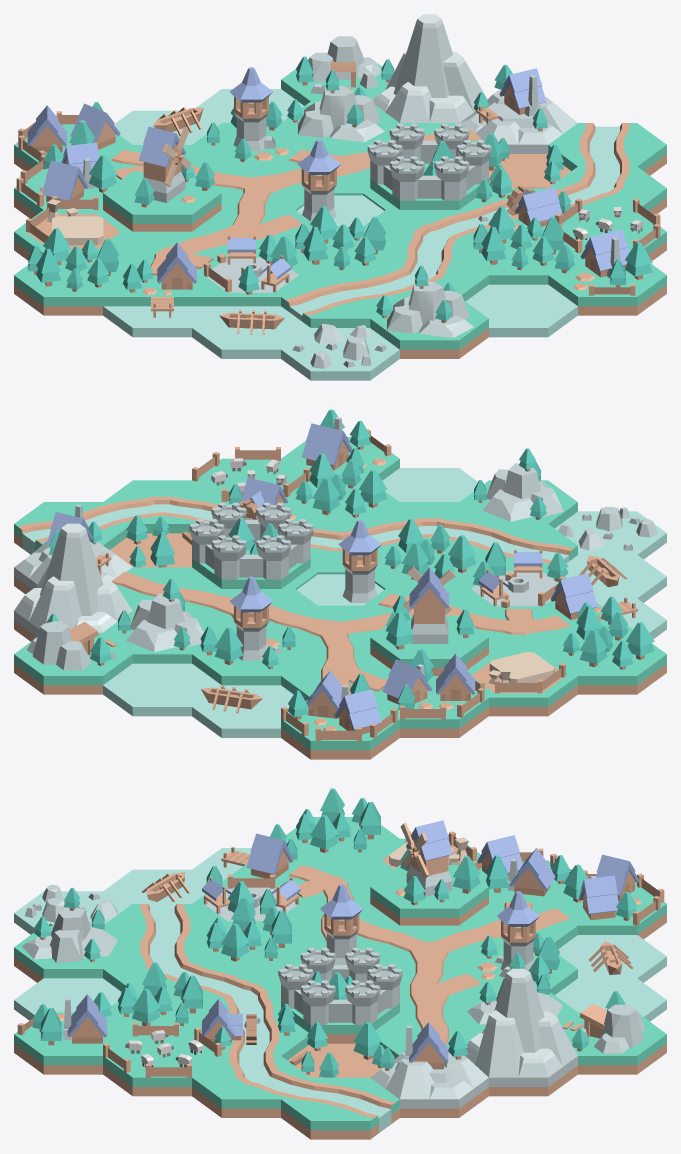
Rendered from island.glb.
3 renders of one model, top to bottom at view 1: azimuth 30°, elevation 25°; view 2: azimuth 150°, elevation 25°; view 3: azimuth 270°, elevation 25°, orthographic.
Parts seen in each view (by area): view 1: water.006; view 2: water.006; view 3: water.006.
Part boxes in pixels (<box>): water.006: <box>14,14,666,380</box>; water.006: <box>14,409,666,759</box>; water.006: <box>14,788,666,1139</box>.
Bounding box in the file's own units: 7 × 1.09 × 6.35.
